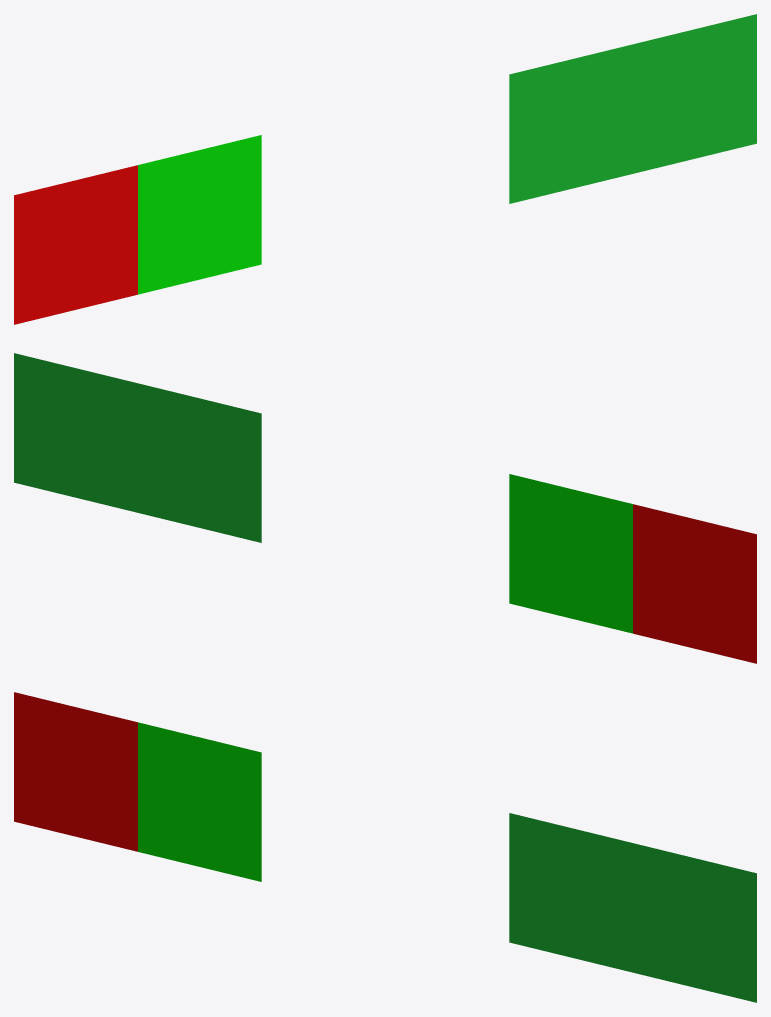
The model's file is two_materials.fbx.
3 renders of one model, top to bottom at view 1: azimuth 30°, elevation 25°; view 2: azimuth 150°, elevation 25°; view 3: azimuth 330°, elevation 25°, orthographic.
Visible parts, largest first — view 1: TwoSurfaces; view 2: TwoSurfaces; view 3: TwoSurfaces.
Boxes of the visible parts, x1=… form: TwoSurfaces: x1=14, y1=14, x2=756, y2=324; TwoSurfaces: x1=14, y1=353, x2=756, y2=663; TwoSurfaces: x1=14, y1=692, x2=756, y2=1002.
Size of the model in its own units: 6 by 1 by 0.
2 materials, 1 textured.
